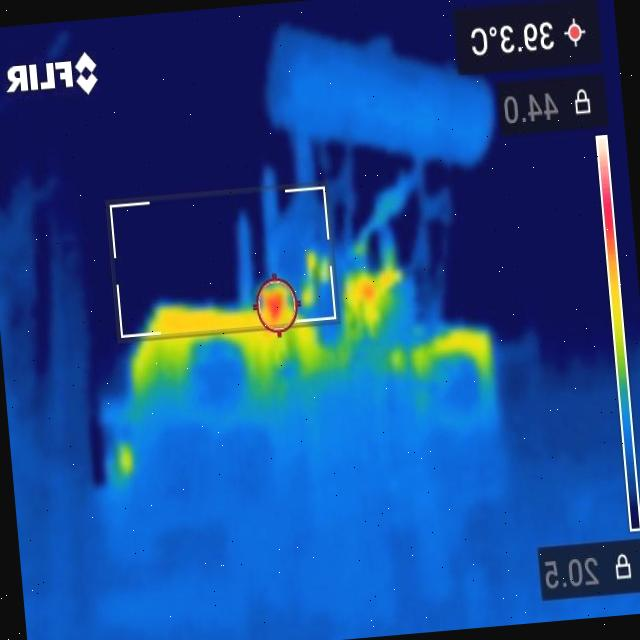loose_joint_red: (379, 253, 399, 309), (359, 269, 379, 318), (262, 285, 290, 309)
